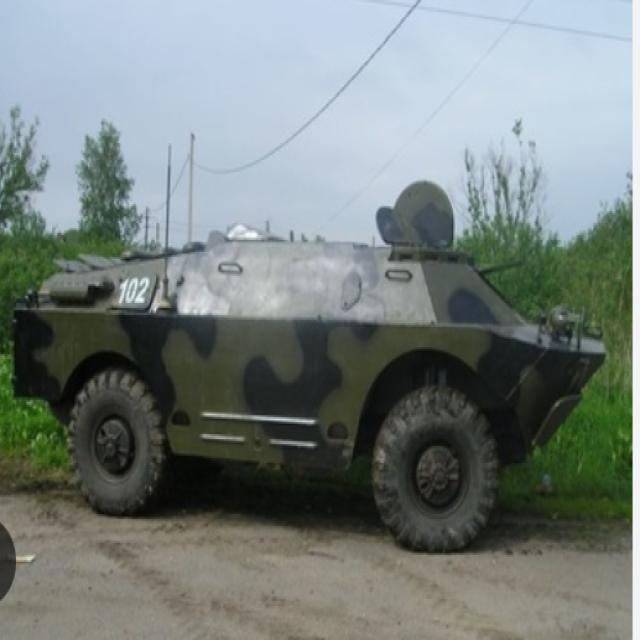MIL_APC: (4, 205, 610, 558)
